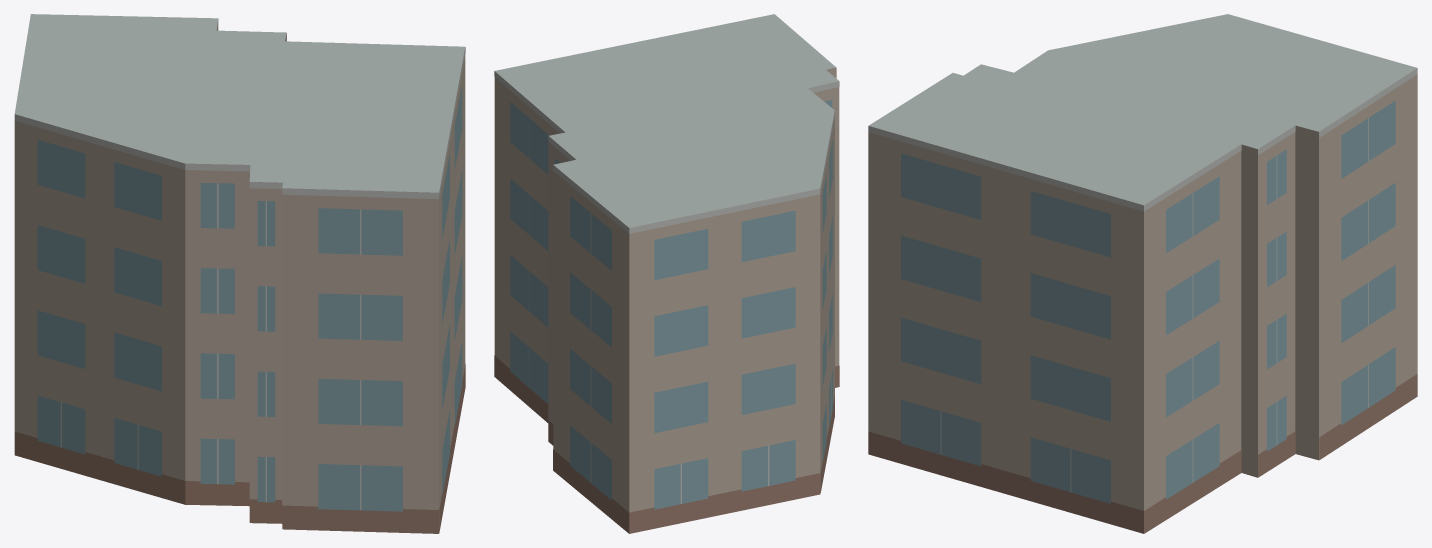
The model's file is survey-upis-32743011.glb.
The picture shows the model from 3 angles, left to right: view 1: azimuth 30°, elevation 25°; view 2: azimuth 150°, elevation 25°; view 3: azimuth 270°, elevation 25°; orthographic projection. The views are drawn at different scales.
Parts seen in each view (by area): view 1: survey-upis-32743011.tmp; view 2: survey-upis-32743011.tmp; view 3: survey-upis-32743011.tmp.
Boxes of the visible parts, x1=… form: survey-upis-32743011.tmp: x1=14, y1=14, x2=465, y2=533; survey-upis-32743011.tmp: x1=494, y1=14, x2=839, y2=533; survey-upis-32743011.tmp: x1=868, y1=14, x2=1417, y2=533.
Size of the model in its own units: 16.06 by 12.85 by 19.48.
